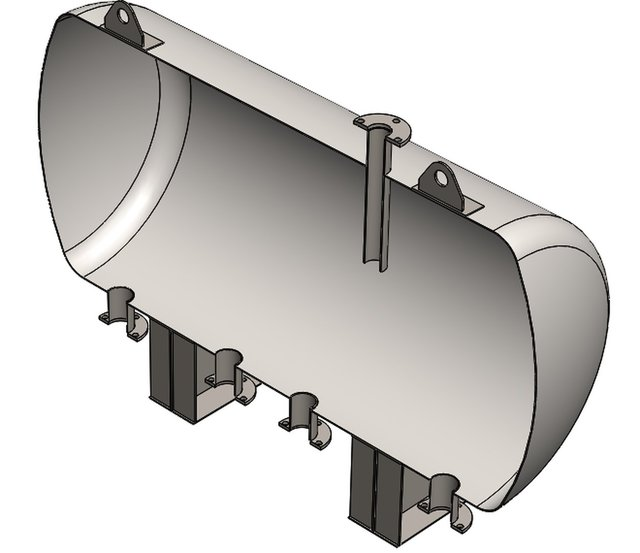nozzle: (339, 92, 414, 194), (264, 383, 329, 459), (414, 465, 477, 533), (204, 344, 259, 412), (94, 287, 150, 345)
